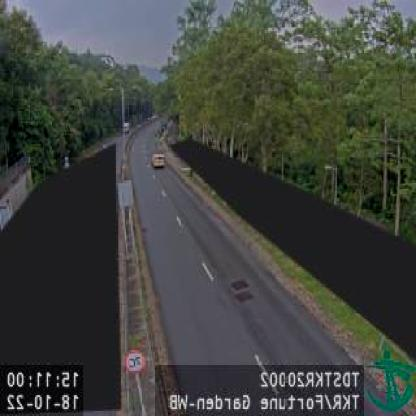Car: (150, 152, 164, 170)
